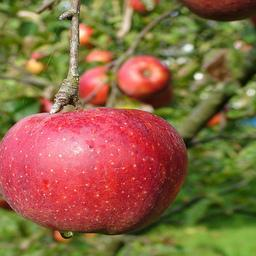apple: (1, 108, 189, 233), (117, 56, 173, 99), (78, 23, 94, 44)
